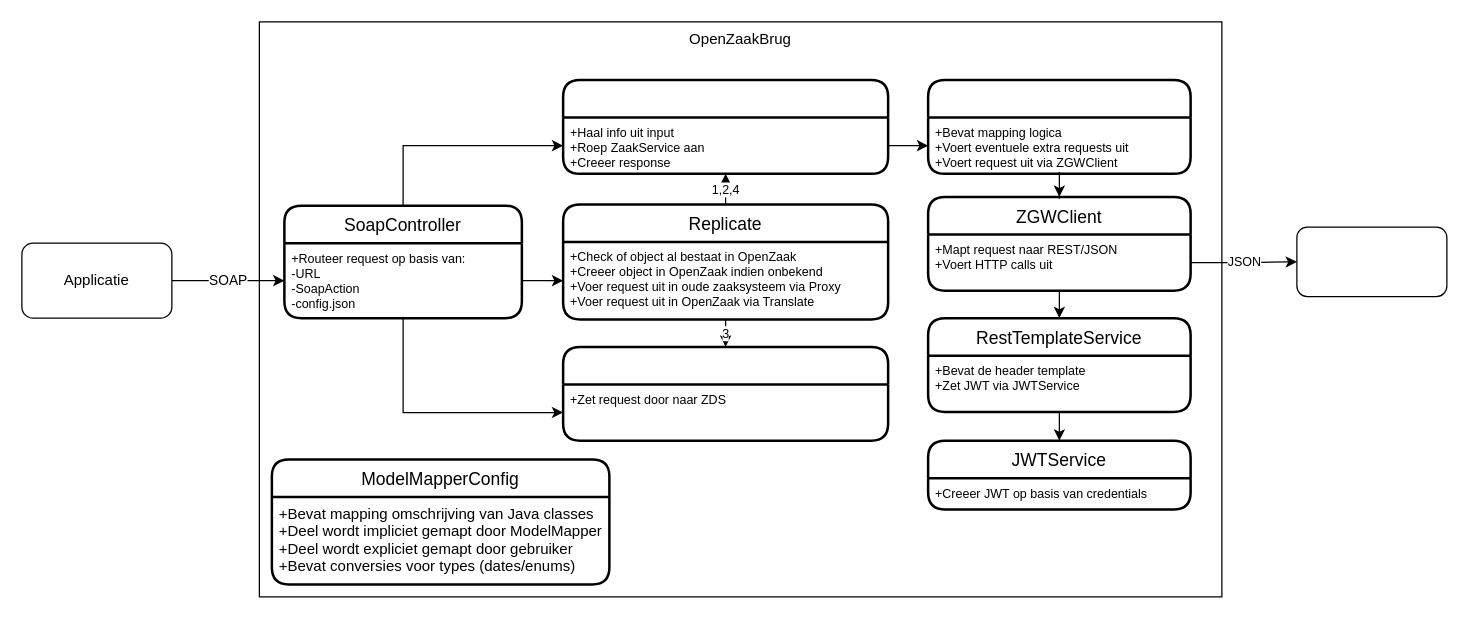
Some shapes in this 1469 by 619 pixel diagram are drawn without their labels. Each missing label, with the box of its shape:
OpenZaak: (1296, 226, 1447, 296)
Proxy: (561, 345, 889, 441)
Translate: (561, 78, 889, 174)
Zaakservice: (926, 78, 1191, 174)
